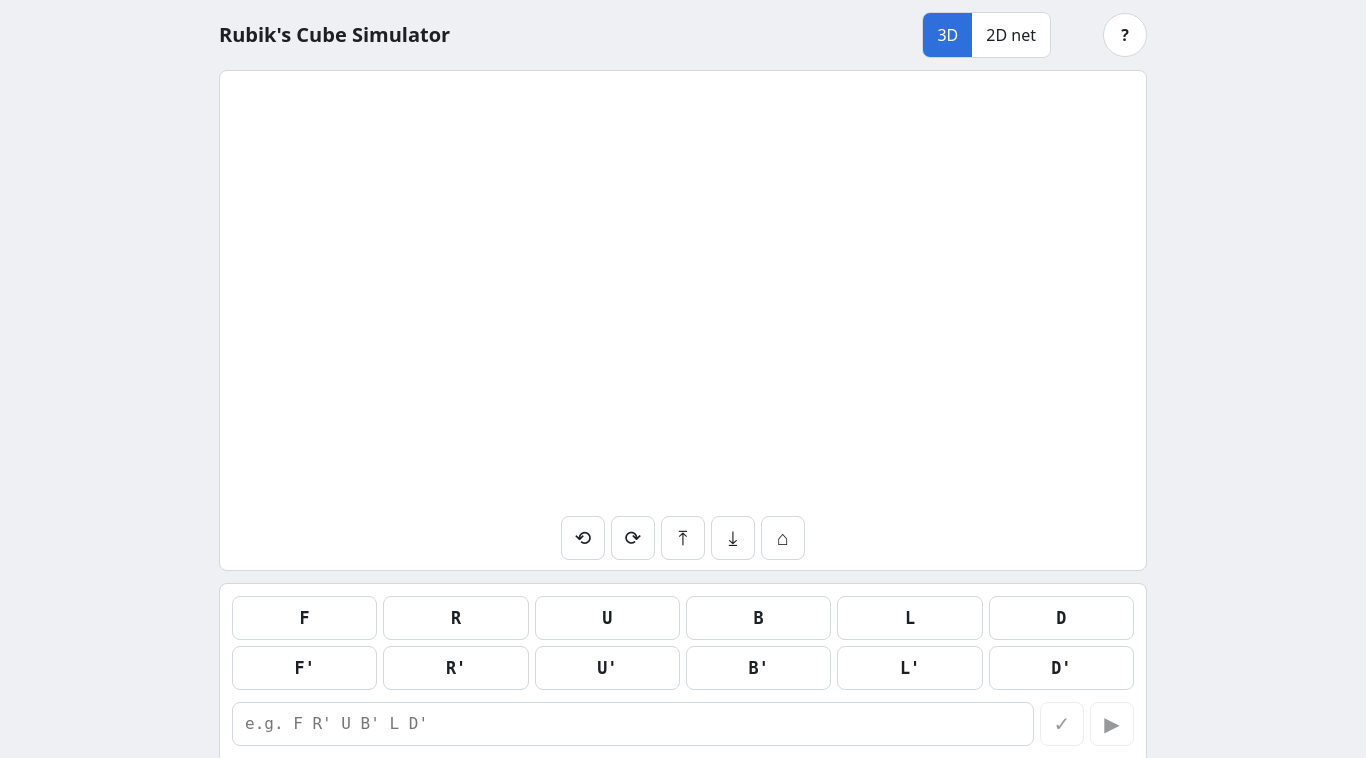
it: App › scramble fills the sequence field
Click the tab "2D net" at (1011, 35), box [972, 13, 1050, 57]
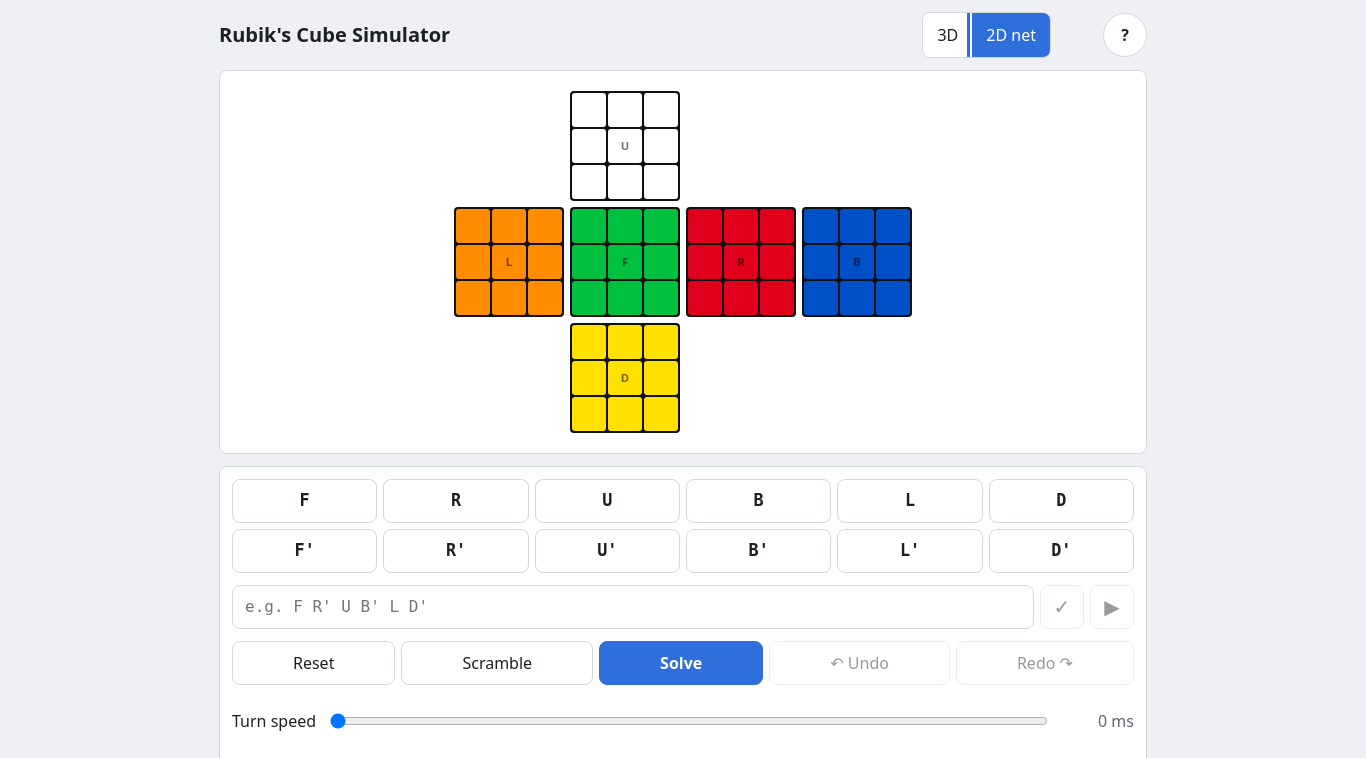
Click the button "Scramble" at (497, 663), box [401, 641, 593, 685]
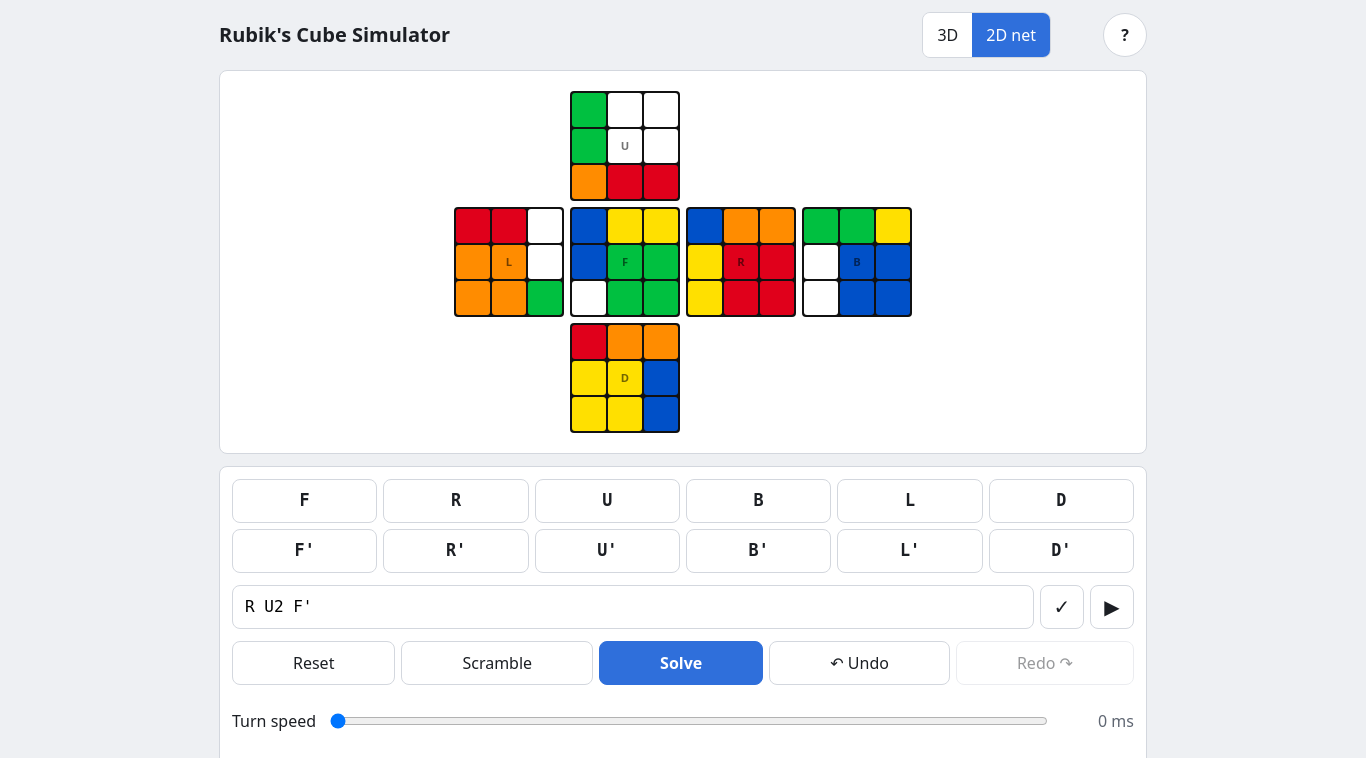
expect the field named "Move sequence" holds "R U2 F'": met, box [232, 585, 1034, 629]
